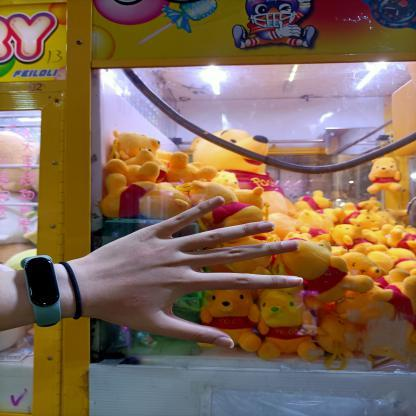bare_hand: (46, 187, 312, 368)
